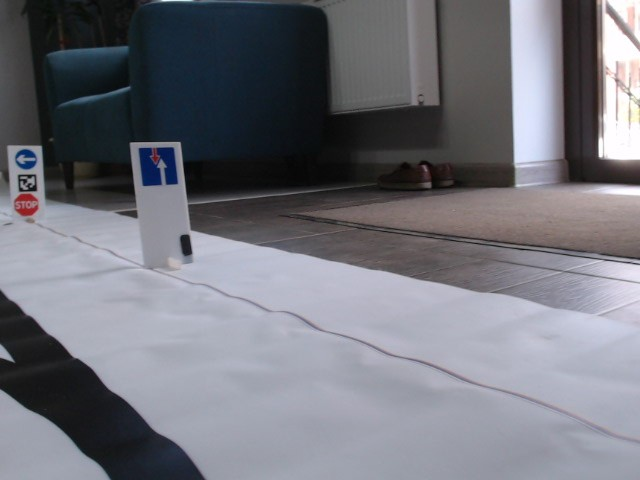Stop: (13, 192, 39, 215)
priority_movement: (136, 146, 179, 186)
